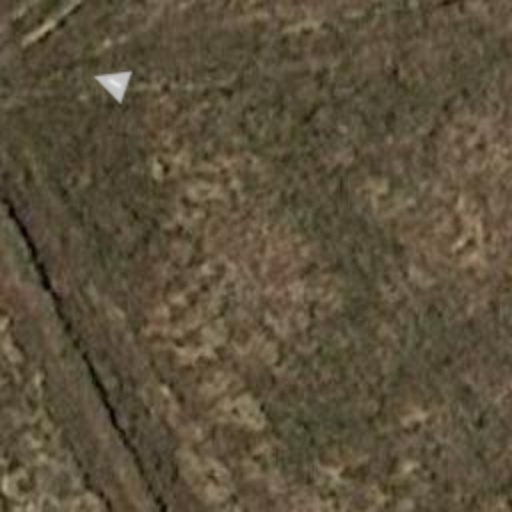triangle: (88, 60, 132, 104)
